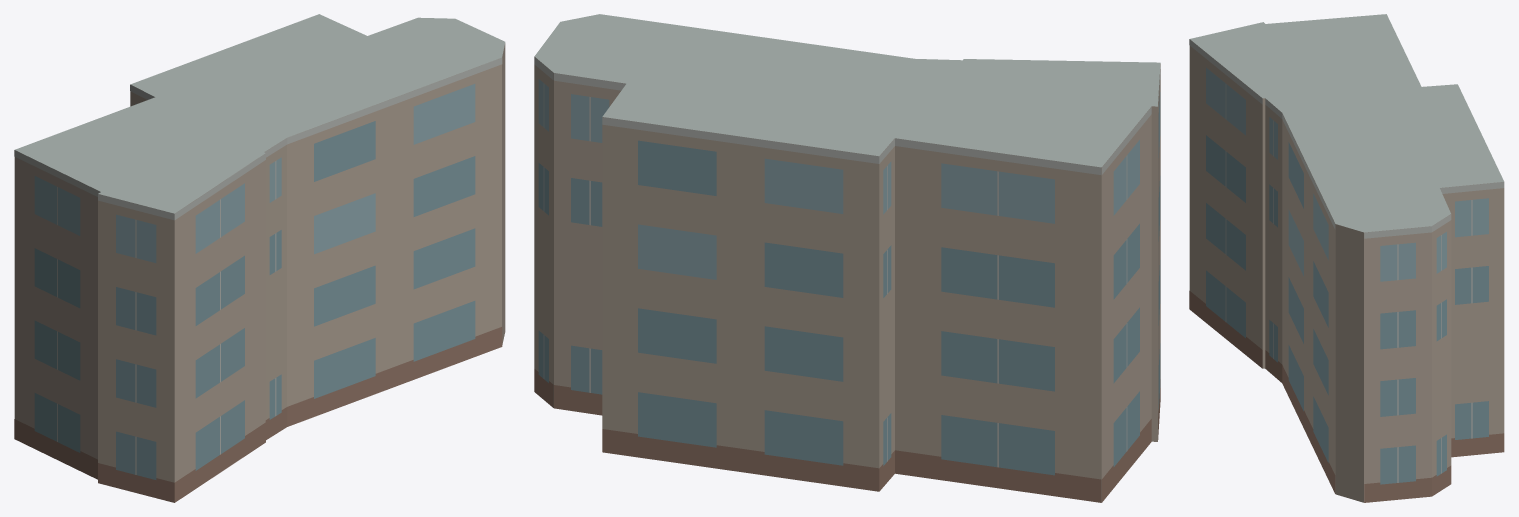
The model's file is survey-upis-32835283.glb.
The picture shows the model from 3 angles, left to right: view 1: azimuth 30°, elevation 25°; view 2: azimuth 150°, elevation 25°; view 3: azimuth 270°, elevation 25°; orthographic projection. The views are drawn at different scales.
Visible parts, largest first — view 1: survey-upis-32835283.tmp; view 2: survey-upis-32835283.tmp; view 3: survey-upis-32835283.tmp.
Boxes of the visible parts, x1,y1,x2,y2 form: survey-upis-32835283.tmp: (14, 14, 505, 502); survey-upis-32835283.tmp: (534, 14, 1160, 502); survey-upis-32835283.tmp: (1189, 14, 1504, 502).
Size of the model in its own units: 18.21 by 10.5 by 11.09.
